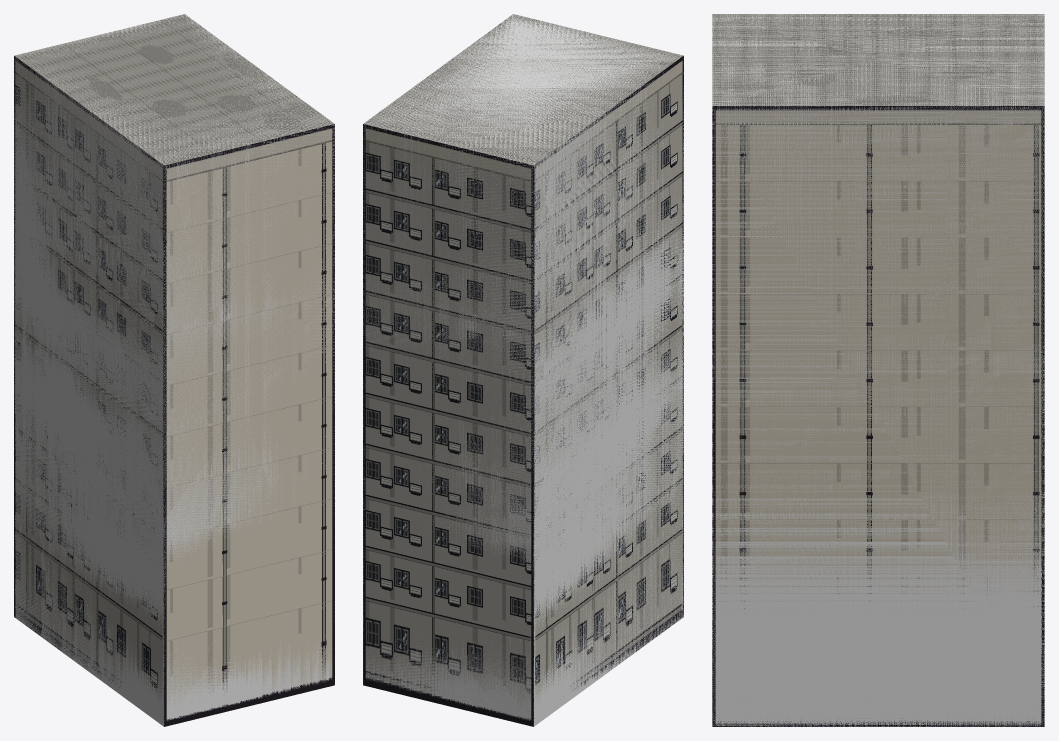
3 renders of one model, left to right at view 1: azimuth 30°, elevation 25°; view 2: azimuth 150°, elevation 25°; view 3: azimuth 270°, elevation 25°, orthographic. The views are drawn at different scales.
Visible parts, largest first — view 1: 19D-E05, COL_19D-E05_0; view 2: 19D-E05, COL_19D-E05_0; view 3: 19D-E05, COL_19D-E05_0.
Part boxes in pixels (<box>): 19D-E05: <box>14,14,334,726</box>; COL_19D-E05_0: <box>14,14,334,726</box>; 19D-E05: <box>363,14,683,726</box>; COL_19D-E05_0: <box>363,14,683,726</box>; 19D-E05: <box>712,14,1044,726</box>; COL_19D-E05_0: <box>712,14,1044,726</box>.
Bounding box in the file's own units: 10.5 × 33 × 16.
Materials: 1 (1 with a texture image).
